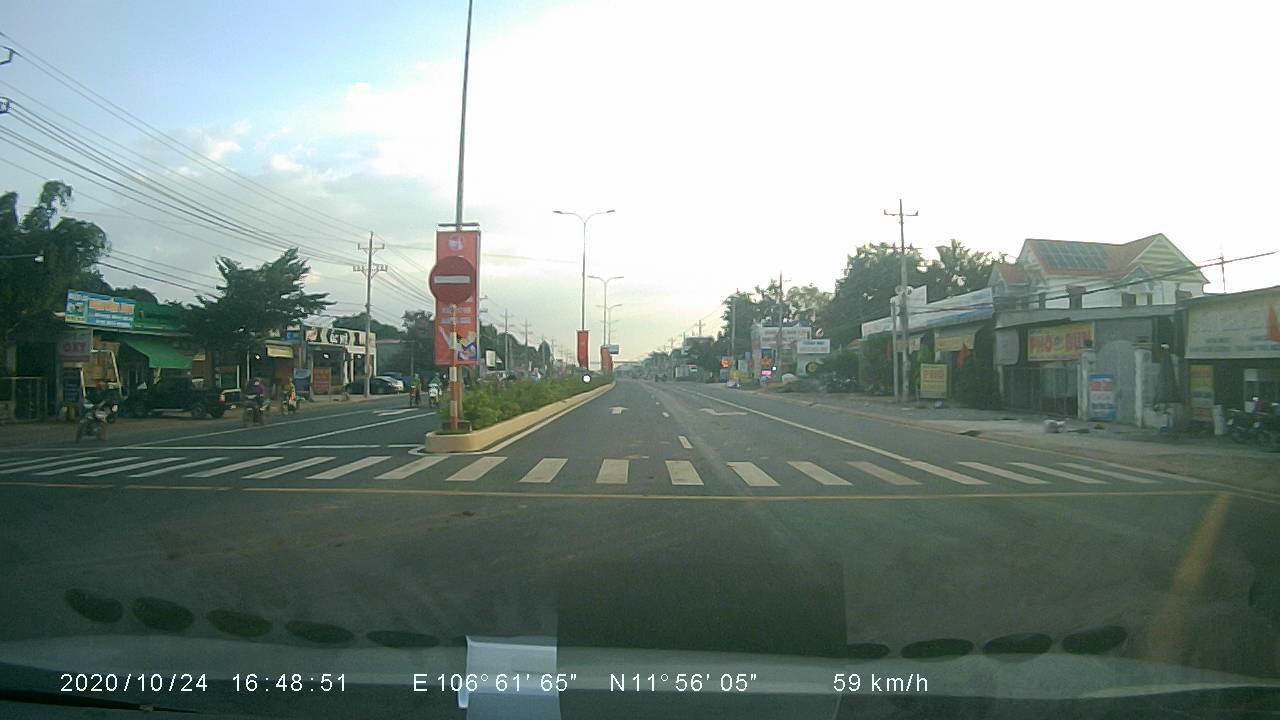Cam di nguoc chieu: (423, 252, 478, 305)
